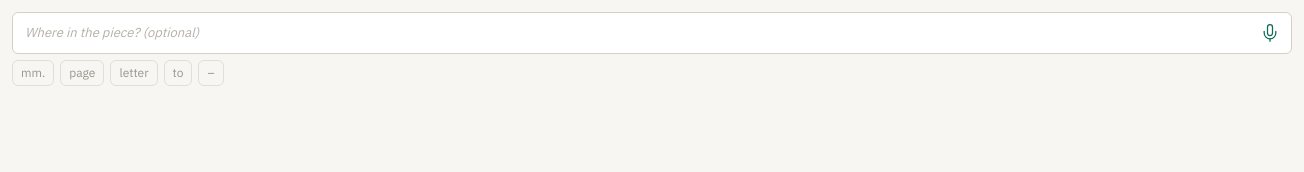
Test case: LocationInput › builds a location from chips and typing, spacing as it goes
This screenshot has width=1304, height=172.
Click the button with aria-label "Insert “mm.”" at (33, 72), box [12,60,54,86]
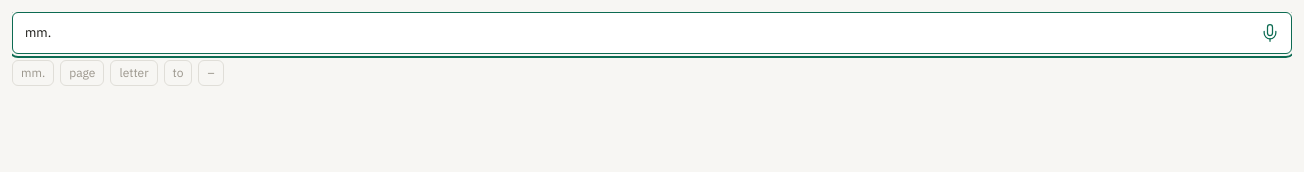
Expected: the field named "Location" holds "mm. "
# The caret stays in the field, so typing continues where the chip left off.
Type "34" into the field named "Location" at (652, 33), box [12,12,1292,54]
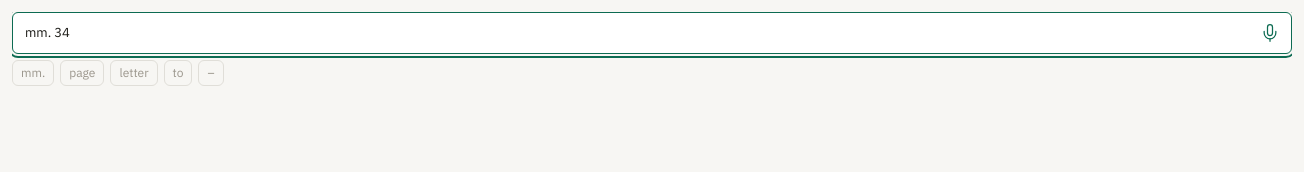
Click the button with aria-label "Insert “to”" at (178, 72), box [164,60,192,86]
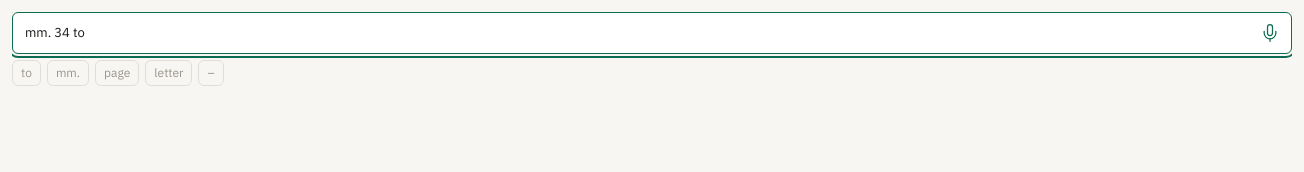
Type "41" into the field named "Location" at (652, 33), box [12,12,1292,54]
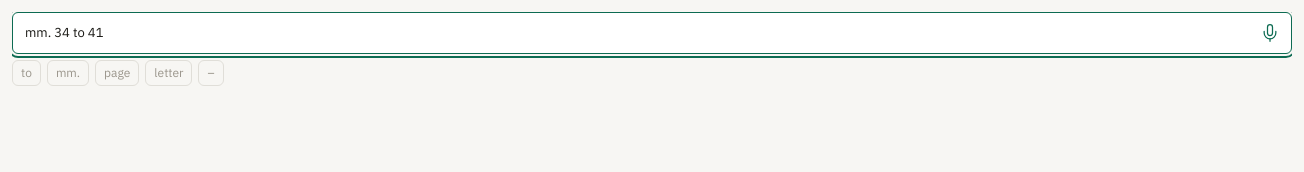
Expected: the field named "Location" holds "mm. 34 to 41", [12,12,1292,54]
